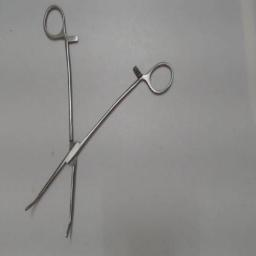Lahey Forceps: (20, 2, 176, 242)
